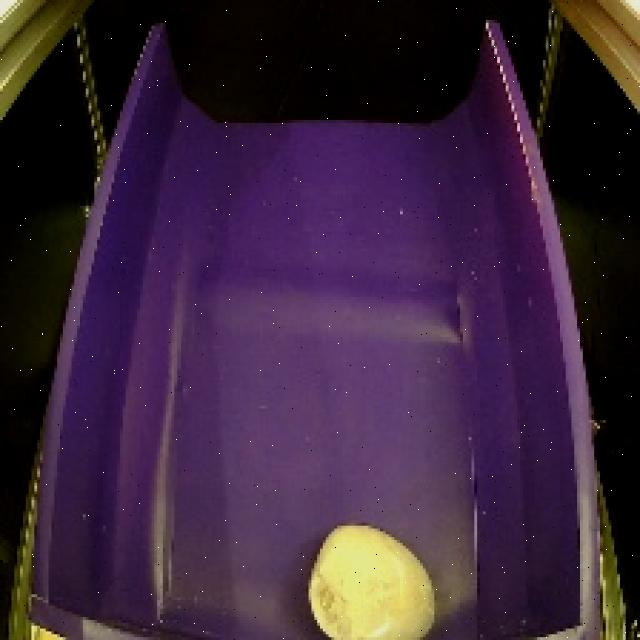cobbles: (284, 517, 444, 640)
